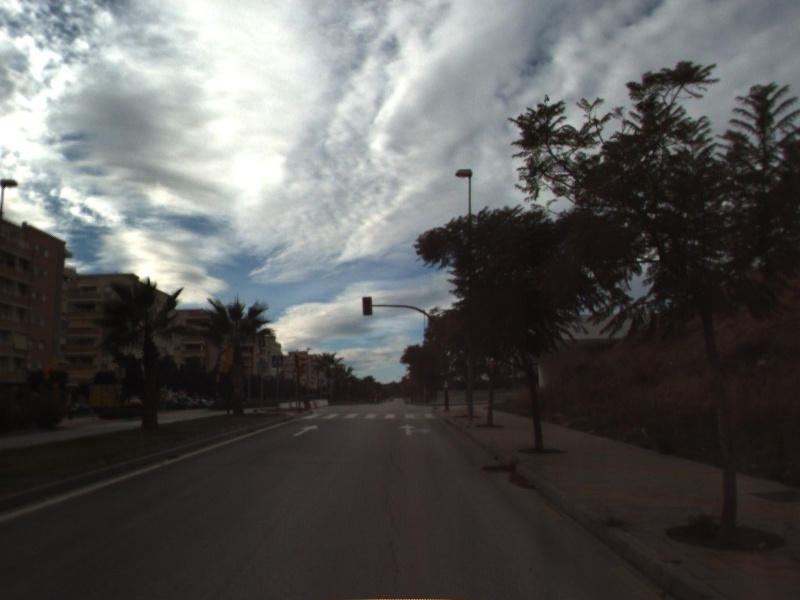STRAIGHT: (291, 423, 321, 438)
STRAIGHT_RIGHT: (396, 422, 433, 438)
